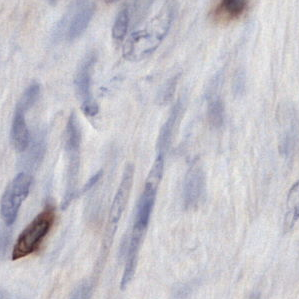Lymphocyte: (12, 209, 53, 258)
